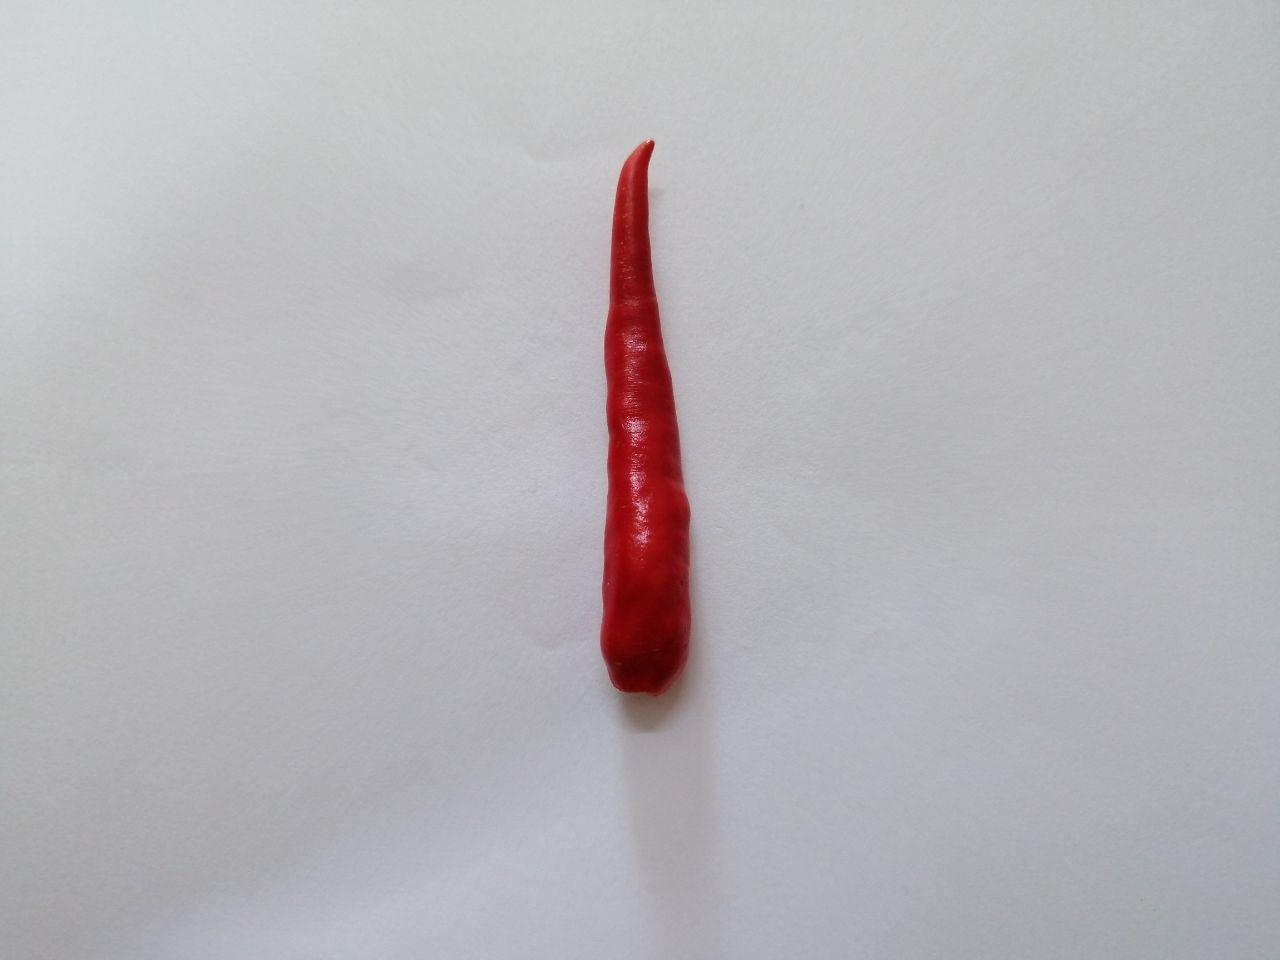lada merah: (562, 122, 731, 728)
